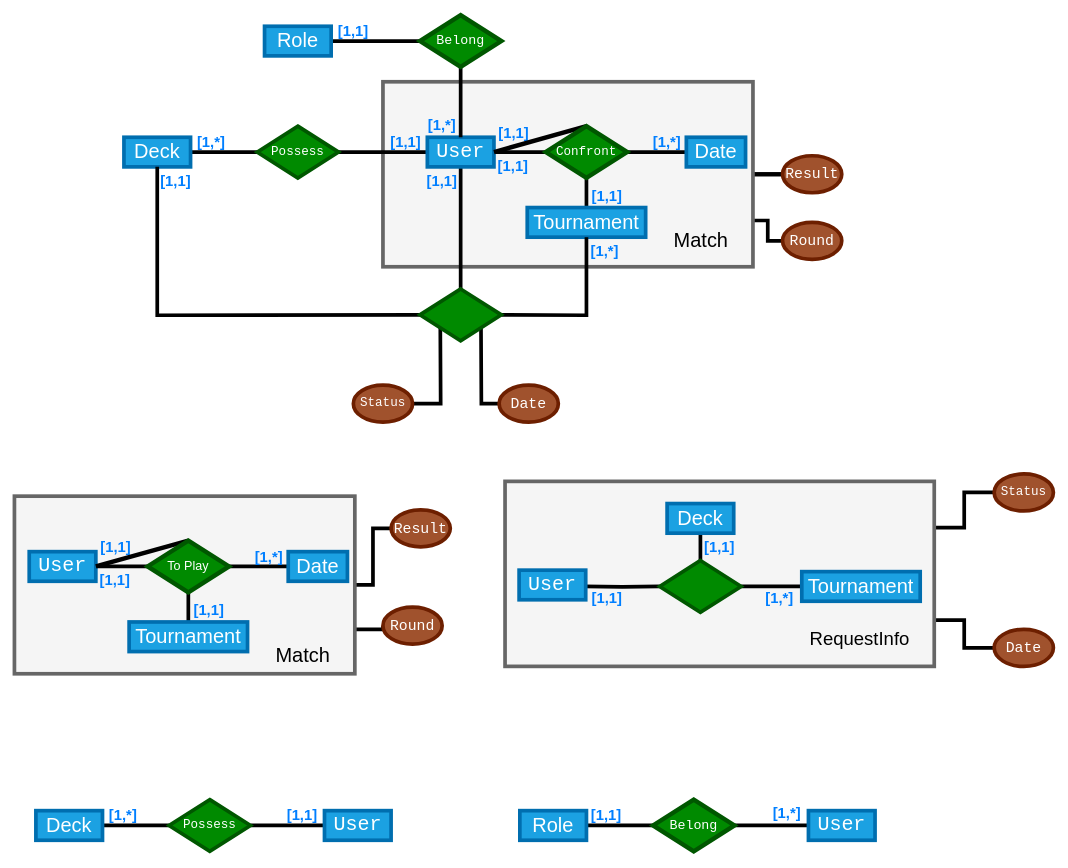
Some shapes in this 1068 by 868 pixel diagram are drawn without their labels. The centre of each missing label's shape, as x and y in pixels:
"Request" goes at (x=460, y=314).
"To Request" goes at (x=700, y=586).
